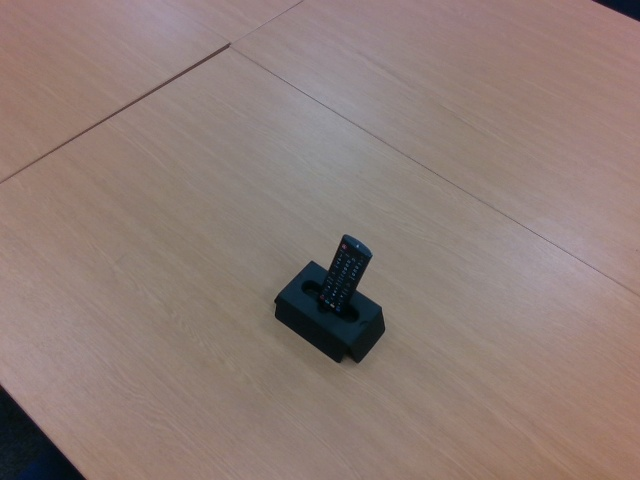remote: (318, 235, 371, 312)
